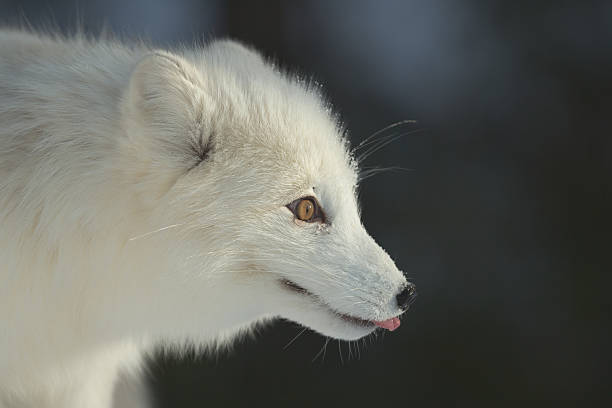arcticfox: (166, 68, 446, 374)
